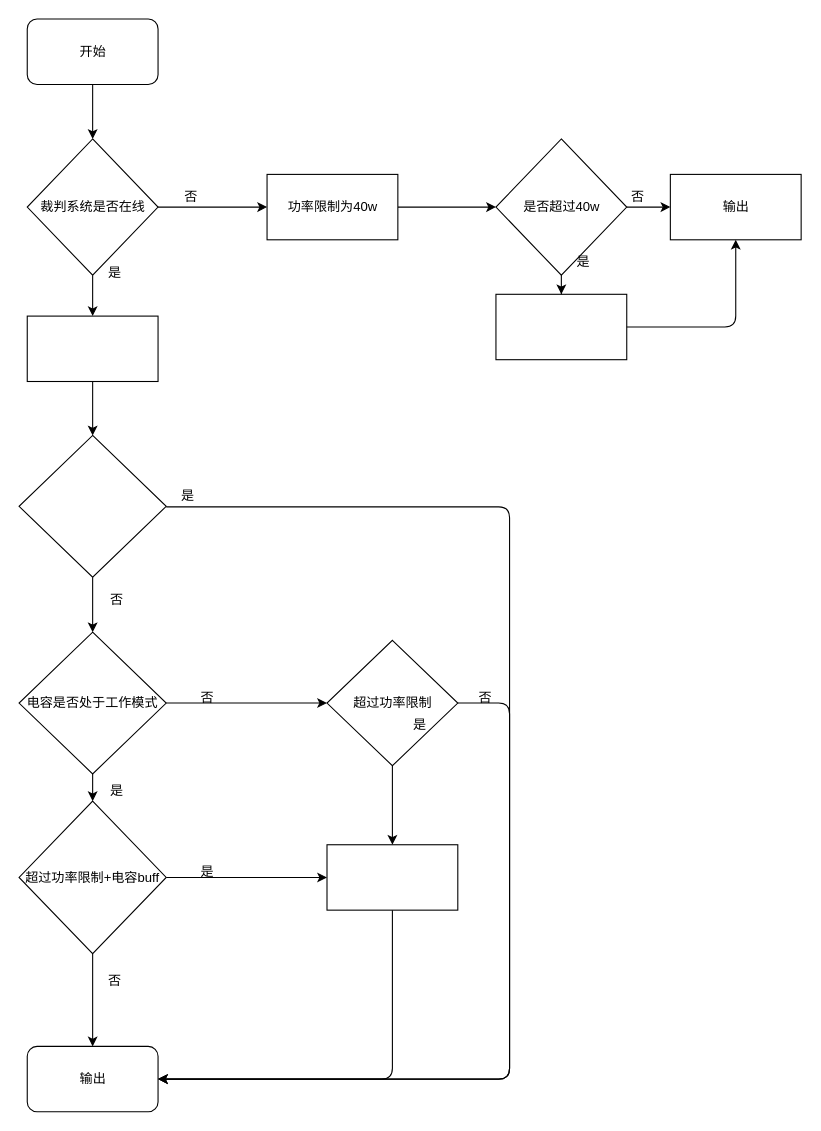
The diagram is 821 pixels wide and 1131 high, and some of its shapes have lost their labels. The shapes that lost their labels are listed below. From the top down, each one's centre as x and y in pixels, then its label:
pixel 561 326: 限制为40w
pixel 92 348: 读取功率限制
pixel 92 505: 电容是否满电
pixel 392 877: 限制功率
